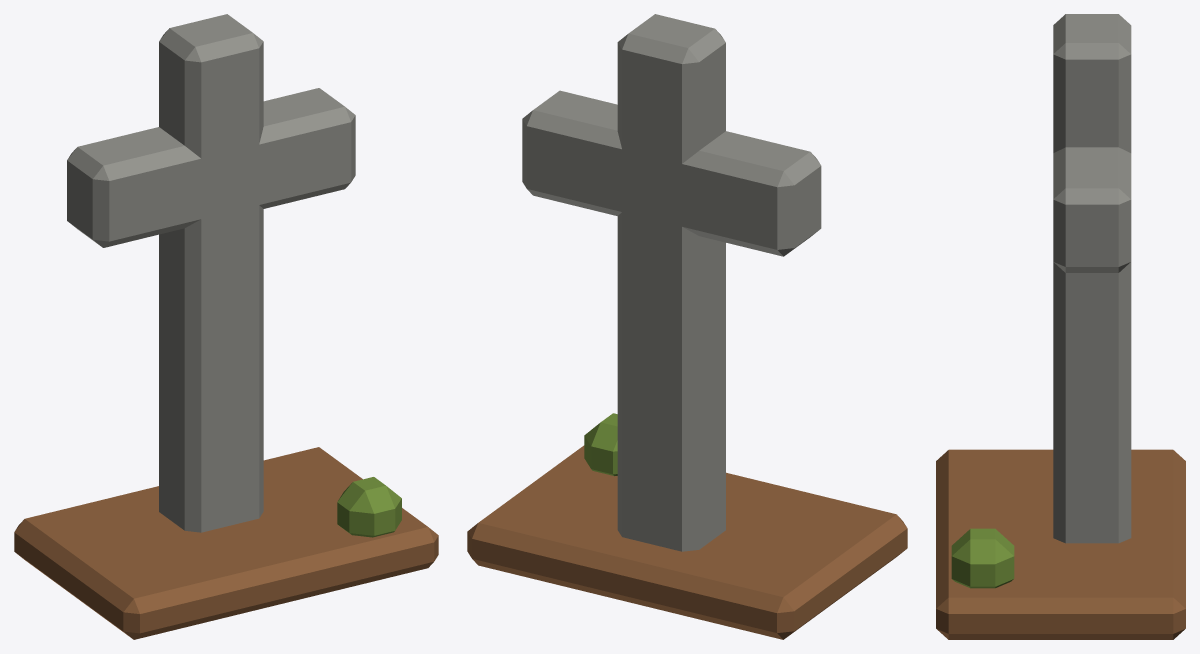
Rendered from CrossTombstone.fbx.
The picture shows the model from 3 angles, left to right: view 1: azimuth 30°, elevation 25°; view 2: azimuth 150°, elevation 25°; view 3: azimuth 270°, elevation 25°; orthographic projection. The views are drawn at different scales.
Visible parts, largest first — view 1: CrossTombstone; view 2: CrossTombstone; view 3: CrossTombstone.
Boxes of the visible parts, x1,y1,x2,y2 form: CrossTombstone: (14, 14, 438, 639); CrossTombstone: (467, 14, 907, 639); CrossTombstone: (936, 14, 1185, 639).
Size of the model in its own units: 2.4 by 3.8 by 1.6.
1 material, 1 textured.
